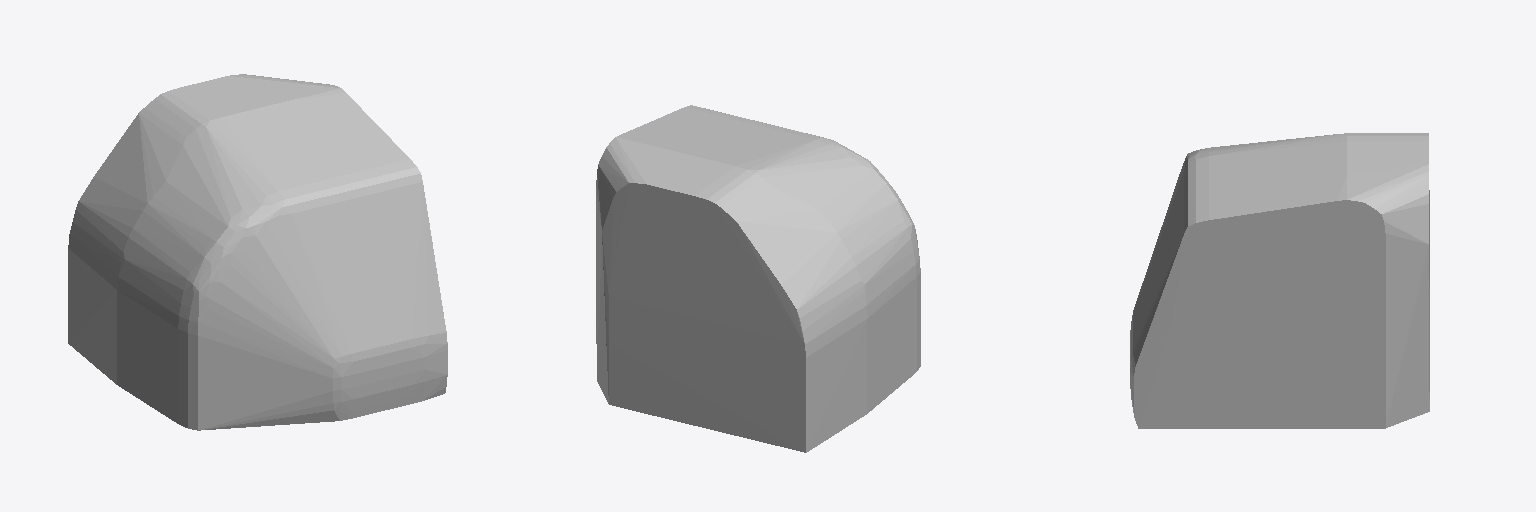
File: Toaster_24_collision_11.obj
3 views of the same model, side by side, from view 1: azimuth 30°, elevation 25°; view 2: azimuth 150°, elevation 25°; view 3: azimuth 270°, elevation 25° (orthographic).
Bounding box in the file's own units: 0.0719 × 0.0662 × 0.0783.